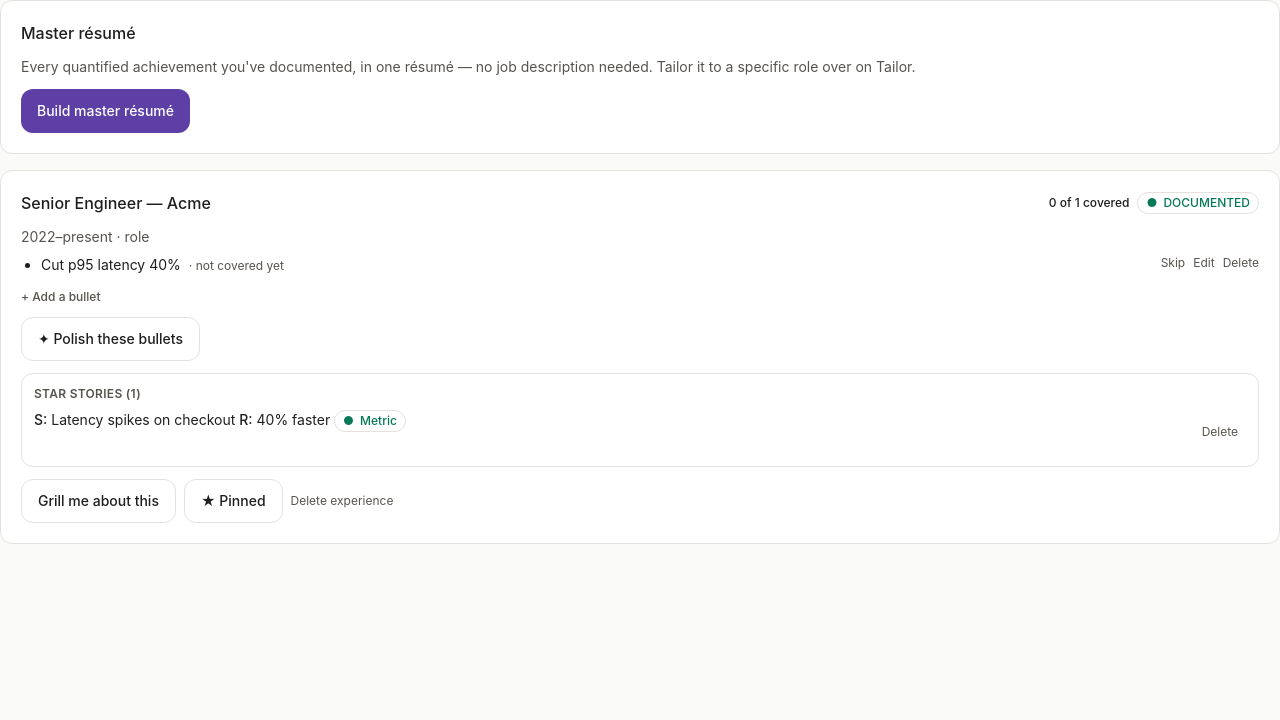
Test case: Master résumé (parity P4c) › surfaces an error when the build fails
Click the button "Build master résumé".
click(106, 111)  # box [21,89,190,133]
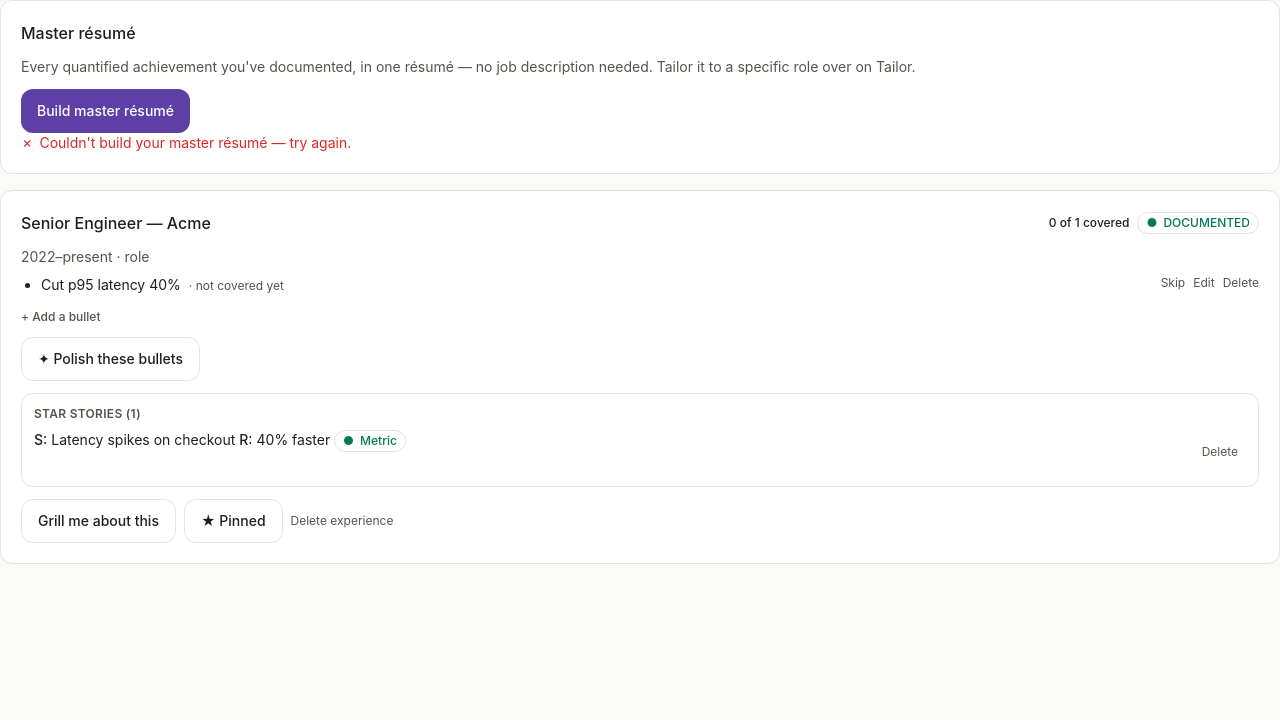
Result: the text "✗ Couldn't build your master résumé — try again." is shown at [21,134,351,151]
